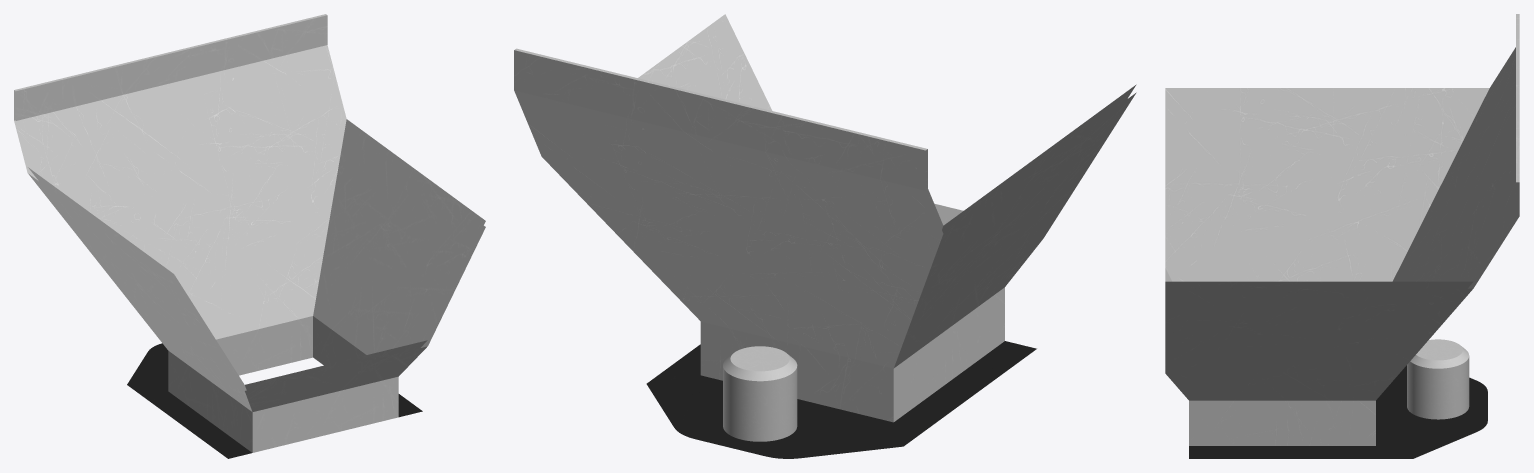
File: Cube04_TightenerStation.glb
3 renders of one model, left to right at view 1: azimuth 30°, elevation 25°; view 2: azimuth 150°, elevation 25°; view 3: azimuth 270°, elevation 25°, orthographic. The views are drawn at different scales.
Visible parts, largest first — view 1: color-2.003; view 2: color-2.003; view 3: color-2.003.
Part boxes in pixels (bbox=[...]): color-2.003: bbox=[14, 14, 485, 458]; color-2.003: bbox=[514, 14, 1136, 458]; color-2.003: bbox=[1165, 14, 1519, 458].
Bounding box in the file's own units: 0.32 × 0.27 × 0.2845.
2 materials, 2 textured.
